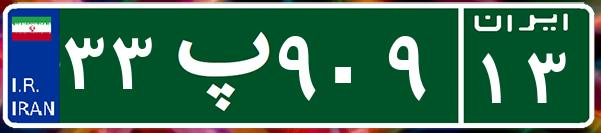0: (330, 28, 385, 110)
1: (475, 38, 525, 113)
3: (57, 26, 110, 107), (110, 28, 158, 105), (525, 38, 570, 115)
9: (385, 28, 445, 110), (273, 28, 330, 110)
پ: (158, 15, 273, 115)
